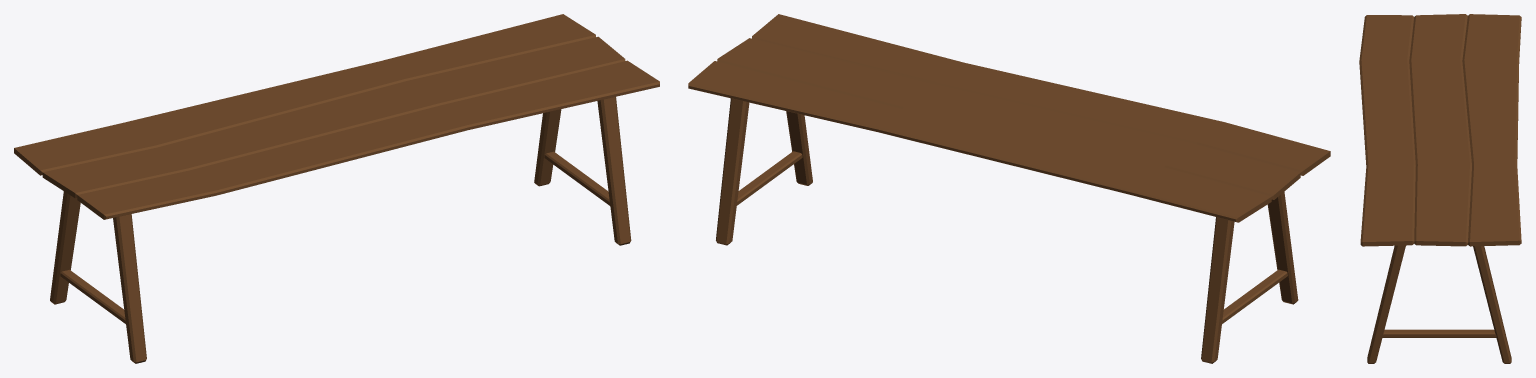
File: table_b.gltf
The picture shows the model from 3 angles, left to right: view 1: azimuth 30°, elevation 25°; view 2: azimuth 150°, elevation 25°; view 3: azimuth 270°, elevation 25°; orthographic projection. The views are drawn at different scales.
Parts seen in each view (by area): view 1: table_b001; view 2: table_b001; view 3: table_b001.
Part boxes in pixels (x1,y1,x2,y2): table_b001: [14, 14, 659, 363]; table_b001: [688, 14, 1330, 363]; table_b001: [1359, 14, 1521, 363].
Size of the model in its own units: 2.13 by 0.5777 by 0.6394.
Materials: 1 (1 with a texture image).
